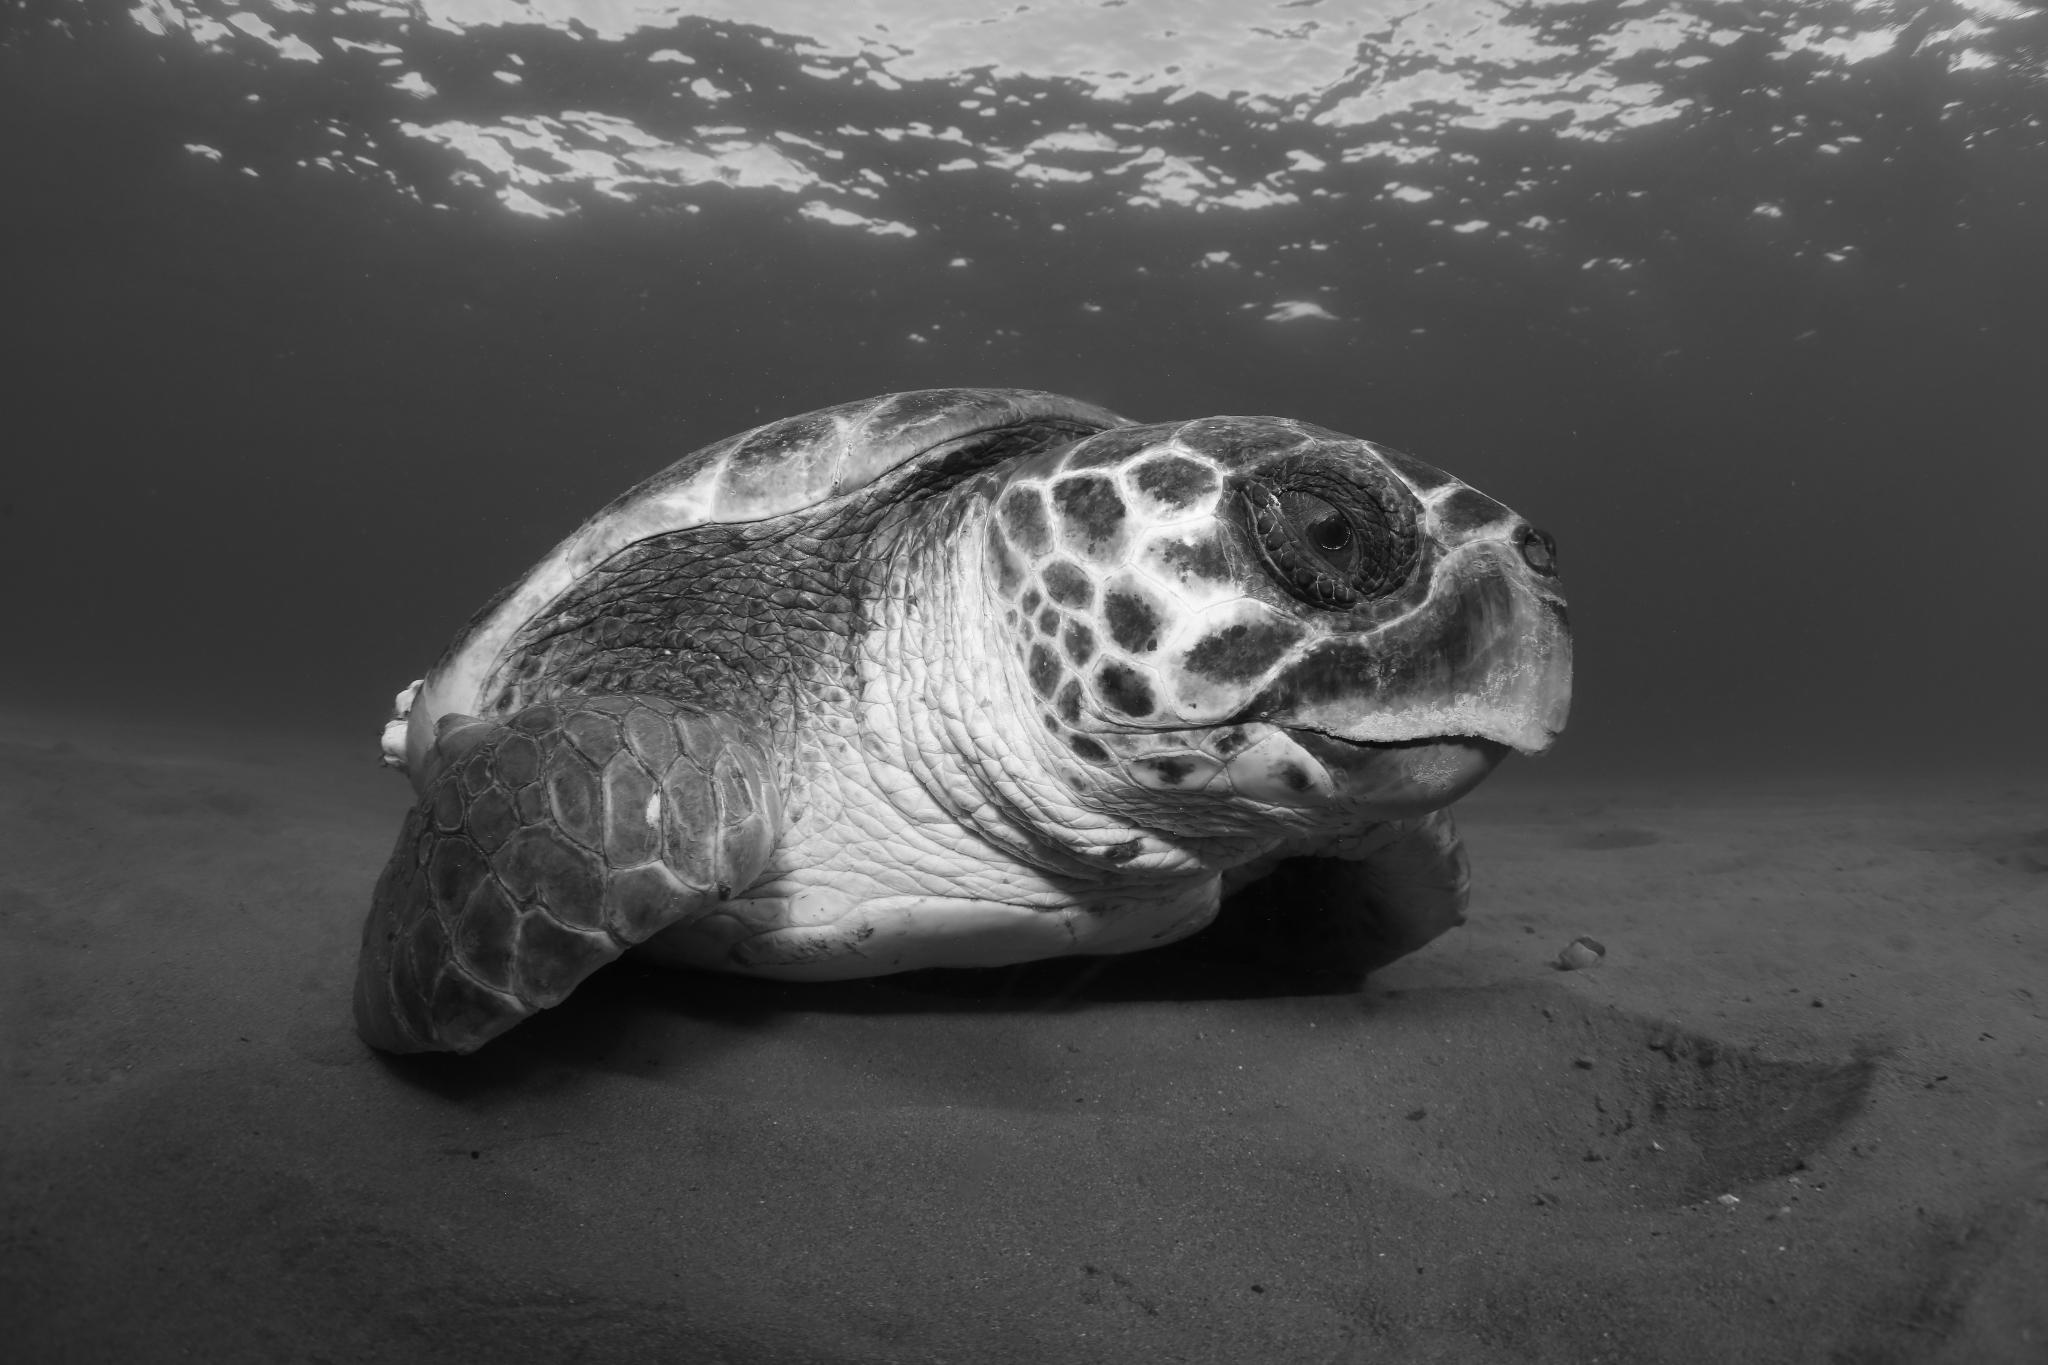Head: (988, 418, 1571, 838)
